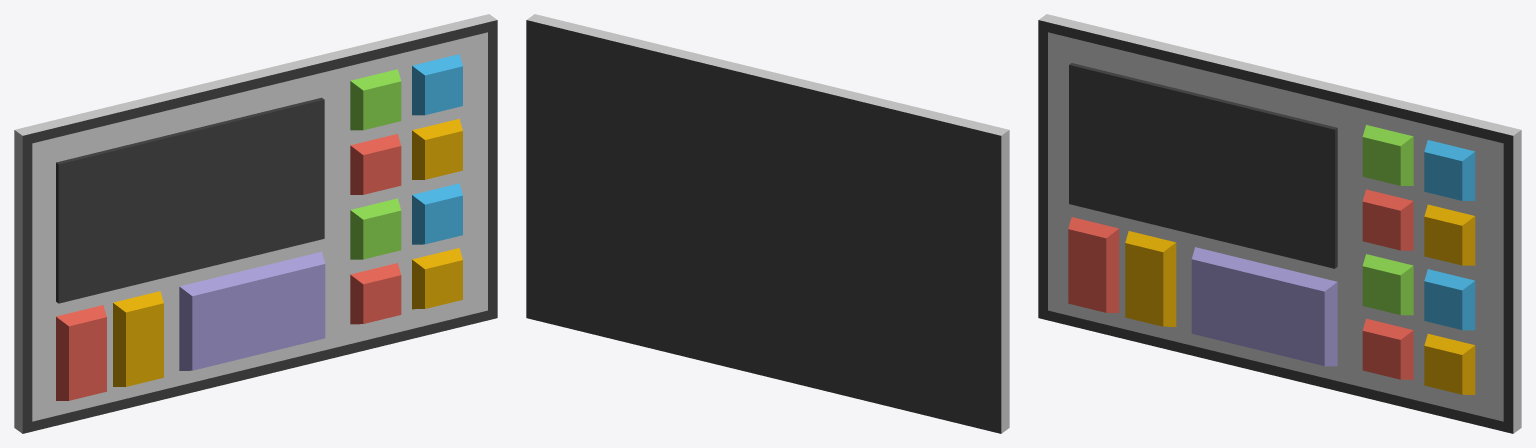
The model's file is scifi_panel_horizontal.fbx.
3 views of the same model, side by side, from view 1: azimuth 30°, elevation 25°; view 2: azimuth 150°, elevation 25°; view 3: azimuth 330°, elevation 25° (orthographic).
Parts seen in each view (by area): view 1: Screen.001; view 2: Screen.001; view 3: Screen.001.
Part boxes in pixels (bbox=[...]): Screen.001: bbox=[14, 14, 497, 433]; Screen.001: bbox=[526, 14, 1009, 433]; Screen.001: bbox=[1038, 14, 1521, 433].
Size of the model in its own units: 1 by 0.6 by 0.06.
